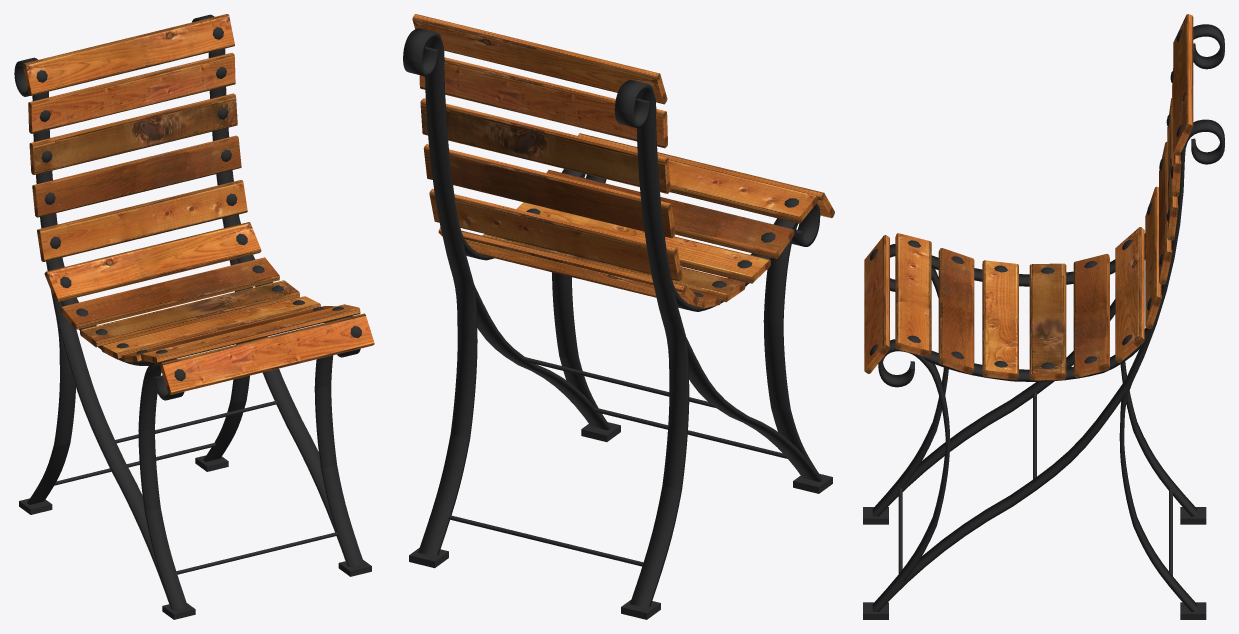
File: CHAIR_2012.FBX
3 views of the same model, side by side, from view 1: azimuth 30°, elevation 25°; view 2: azimuth 150°, elevation 25°; view 3: azimuth 270°, elevation 25° (orthographic). The views are drawn at different scales.
Visible parts, largest first — view 1: OP_01, N_02; view 2: OP_01, N_02; view 3: OP_01, N_02.
Part boxes in pixels (x1,y1,x2,y2): OP_01: (23,14,374,395); N_02: (14,14,371,619); OP_01: (412,14,834,308); N_02: (403,28,832,619); OP_01: (864,14,1193,380); N_02: (863,24,1224,619).
Bounding box in the file's own units: 42.84 × 90.49 × 59.61.
Materials: 2 (1 with a texture image).
